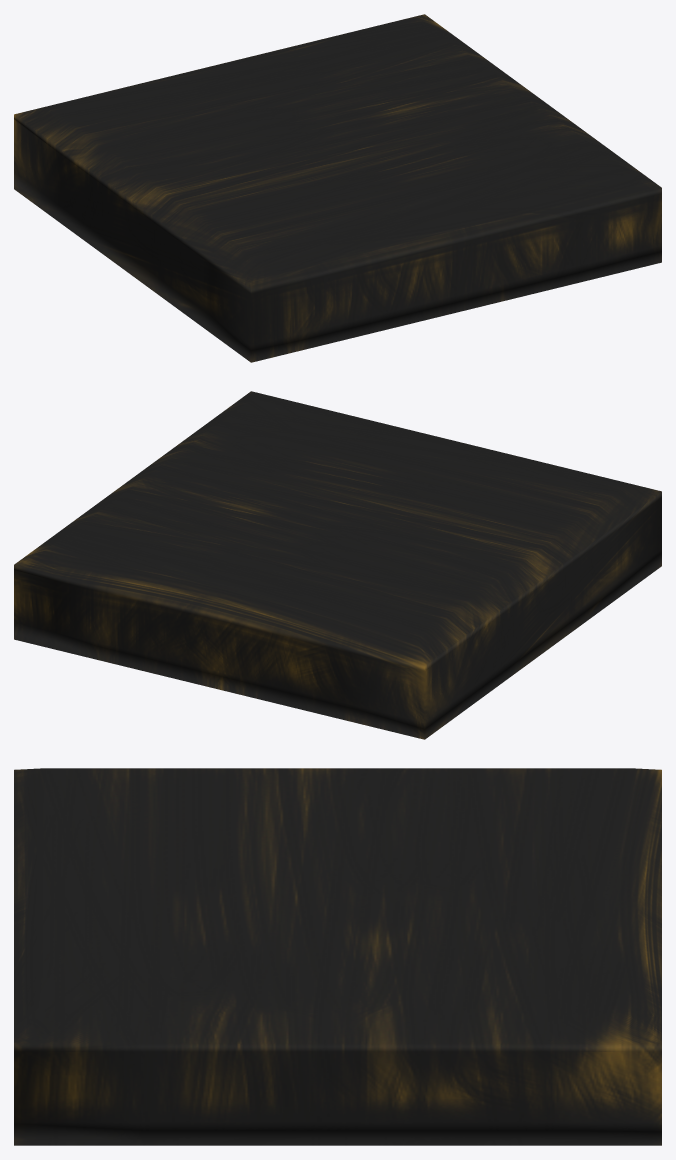
File: Black Square.fbx
3 views of the same model, one above another, from view 1: azimuth 30°, elevation 25°; view 2: azimuth 150°, elevation 25°; view 3: azimuth 270°, elevation 25° (orthographic). The views are drawn at different scales.
Parts seen in each view (by area): view 1: cube; view 2: cube; view 3: cube.
Boxes of the visible parts, x1,y1,x2,y2 form: cube: [14, 14, 661, 362]; cube: [14, 391, 661, 739]; cube: [14, 768, 661, 1145].
Size of the model in its own units: 8 by 1.6 by 8.
Materials: 1 (1 with a texture image).
